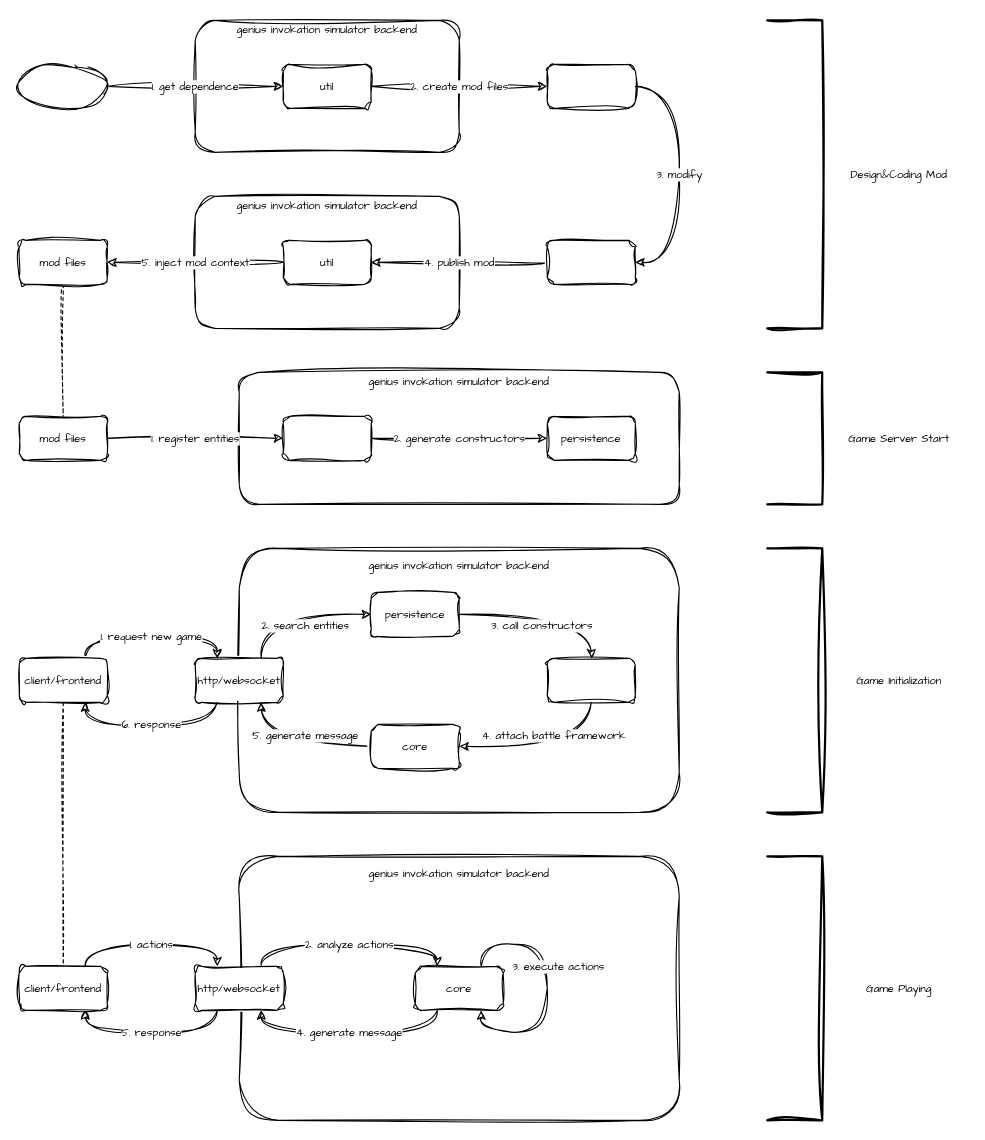
Image size: 985x1140. Some labels were removed from this diagram. Each missing label, with the centre of its shape:
entities: [590,679]
good idea: [62,85]
mod.Adapter: [326,437]
modified files: [590,261]
template files: [590,85]
